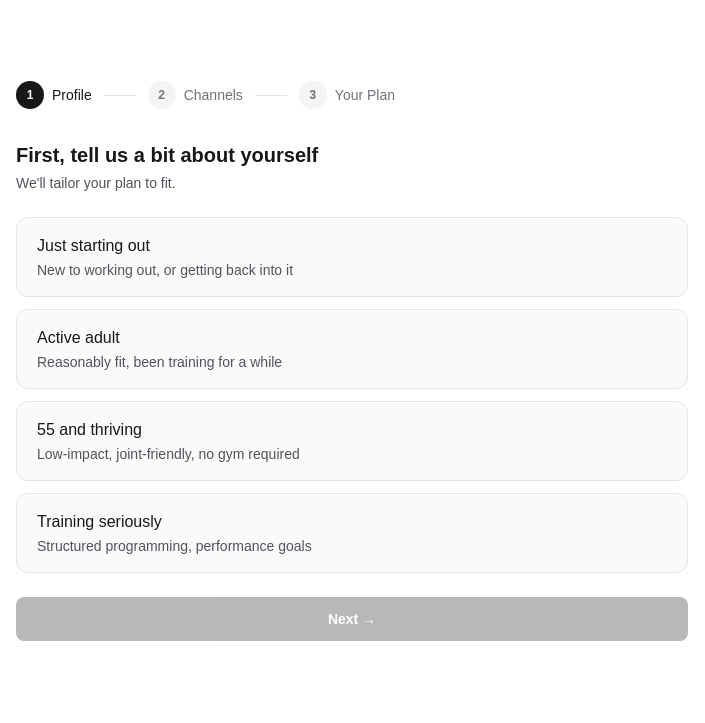
Test: OnboardingPage - Step 2 (Goal) › shows senior goals after selecting '55 and thriving' and clicking Next
Expected: the heading "First, tell us a bit about yourself" is shown, [16,144,318,166]
Click the text "55 and thriving" at (90, 430), box [37,421,142,438]
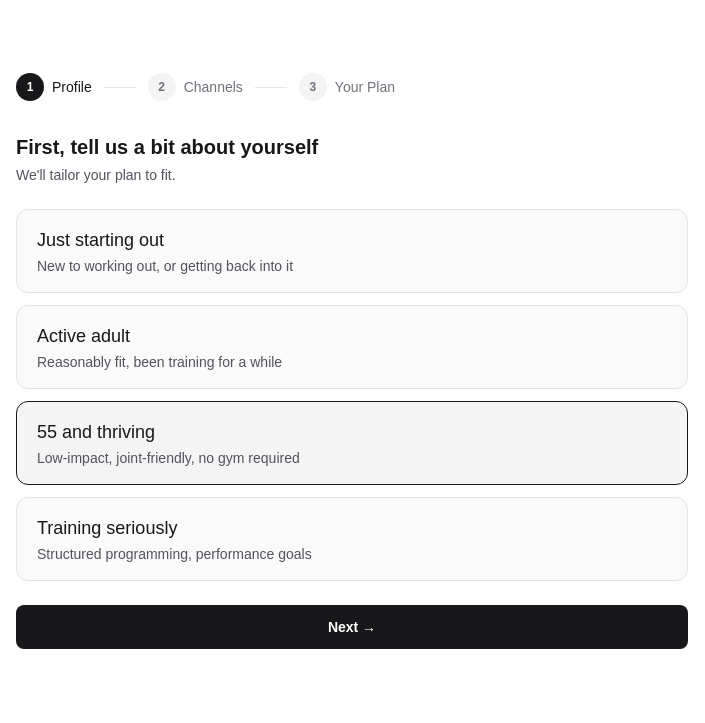
Click the button "Next →" at (352, 627), box [16,605,688,649]
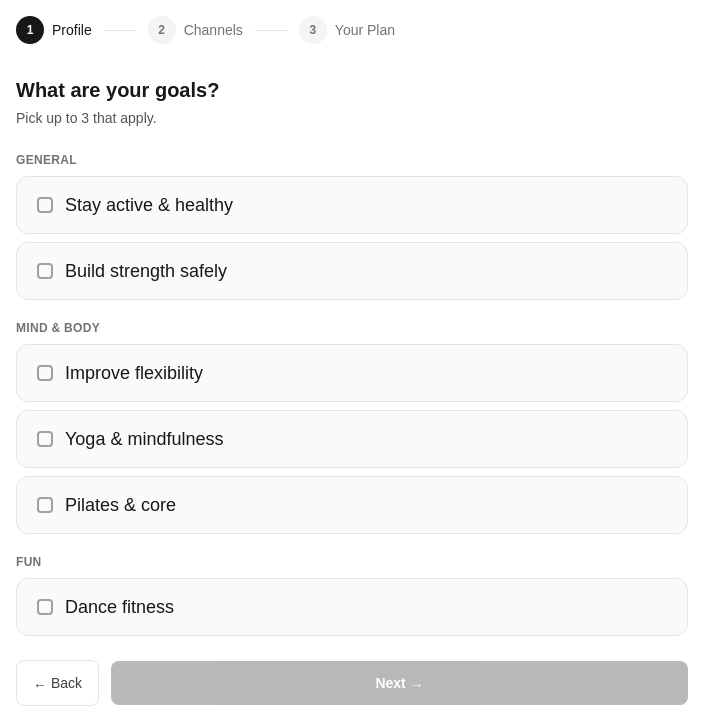
Result: the text "Stay active & healthy" is shown at [65,191,233,219]
Result: the text "Improve flexibility" is shown at [65,359,203,387]
Result: the text "Build strength safely" is shown at [65,257,227,285]
